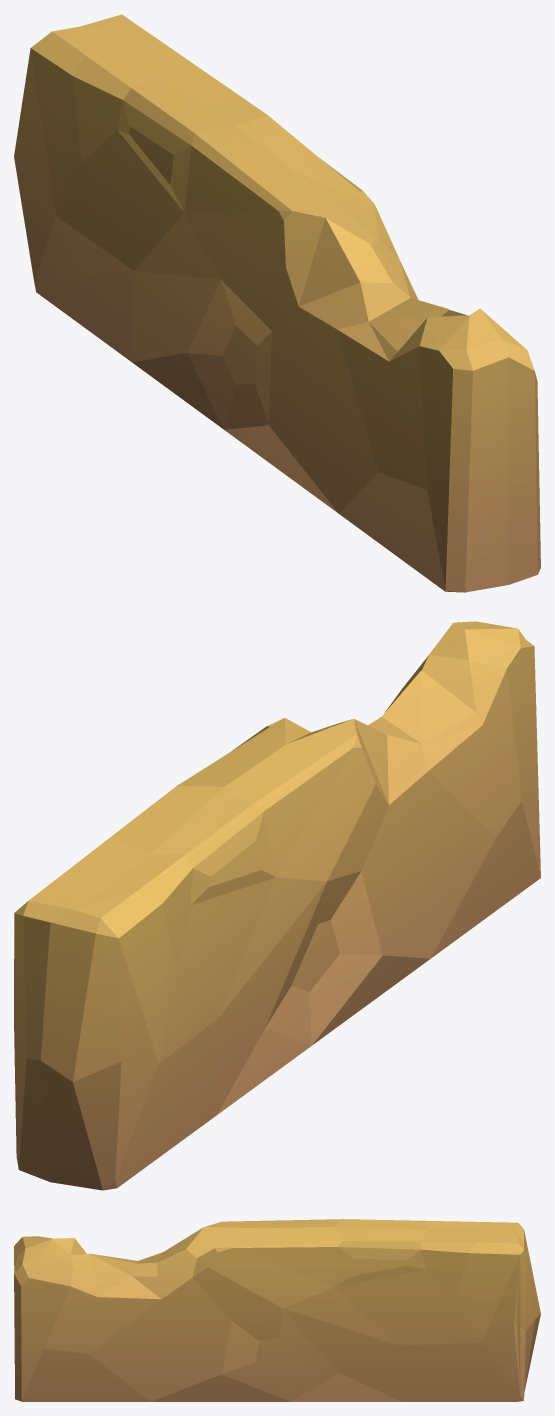
3 renders of one model, top to bottom at view 1: azimuth 30°, elevation 25°; view 2: azimuth 150°, elevation 25°; view 3: azimuth 270°, elevation 25°, orthographic. The views are drawn at different scales.
Parts seen in each view (by area): view 1: OldWall3; view 2: OldWall3; view 3: OldWall3.
Part boxes in pixels (x1,y1,x2,y2): OldWall3: [14, 14, 540, 592]; OldWall3: [14, 621, 540, 1190]; OldWall3: [14, 1219, 540, 1401].
Size of the model in its own units: 30.93 by 68.65 by 200.
1 material, 1 textured.
